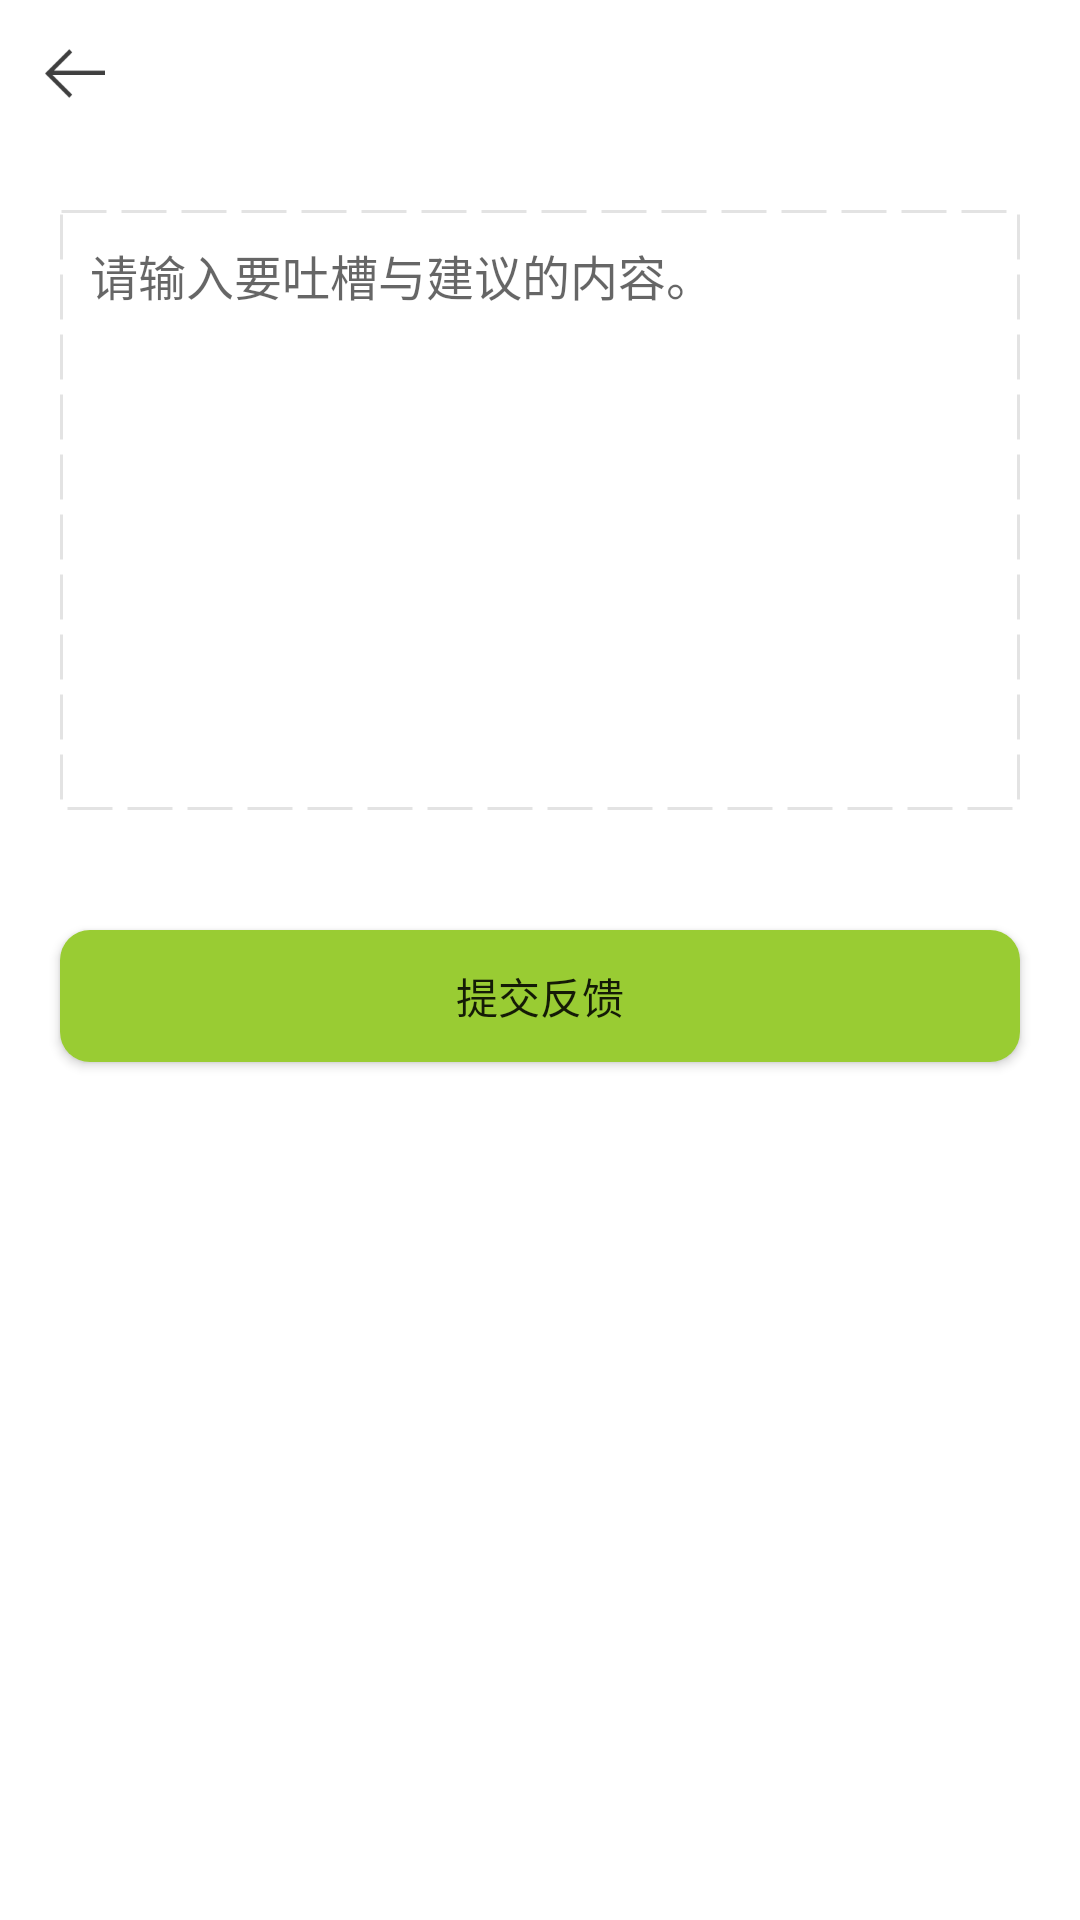

Named icons in this screenshot (1080px x 1920px) and their centers, point (x, y):
back: point (75, 73)
